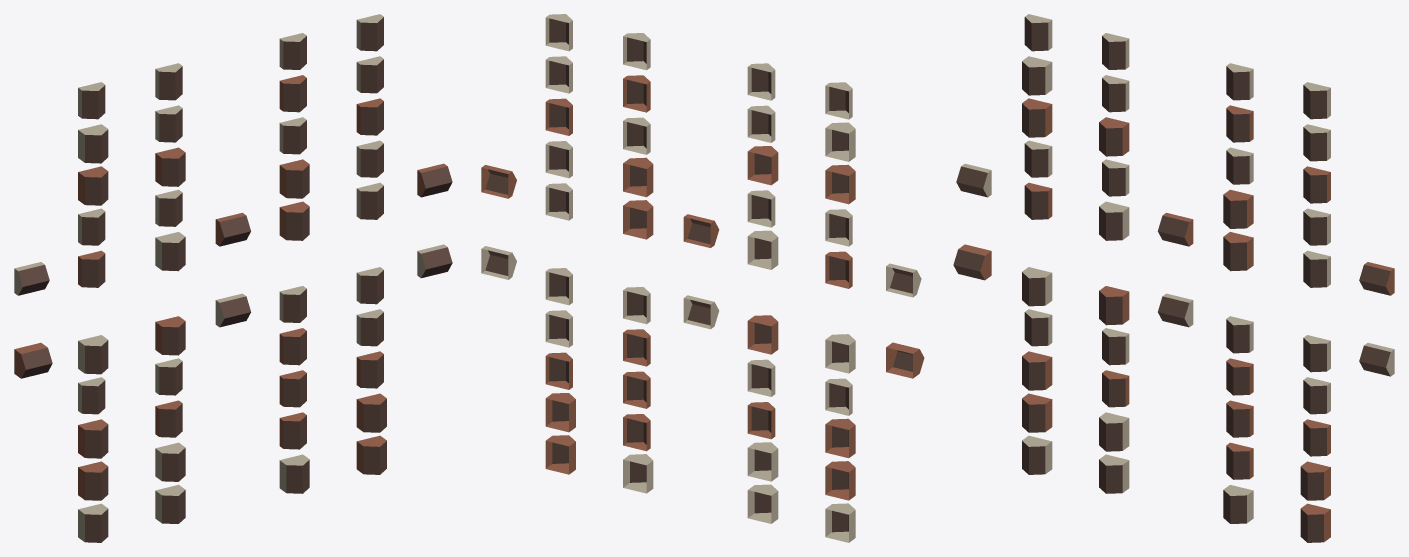
Rendered from island_bldg_19_04.obj.
3 views of the same model, side by side, from view 1: azimuth 30°, elevation 25°; view 2: azimuth 150°, elevation 25°; view 3: azimuth 330°, elevation 25° (orthographic).
Parts seen in each view (by area): view 1: island_bldg_19_04; view 2: island_bldg_19_04; view 3: island_bldg_19_04.
Boxes of the visible parts, x1,y1,x2,y2 form: island_bldg_19_04: (14,14,452,542); island_bldg_19_04: (481,14,924,542); island_bldg_19_04: (953,14,1394,542).
Bounding box in the file's own units: 256 × 256 × 11.9.
